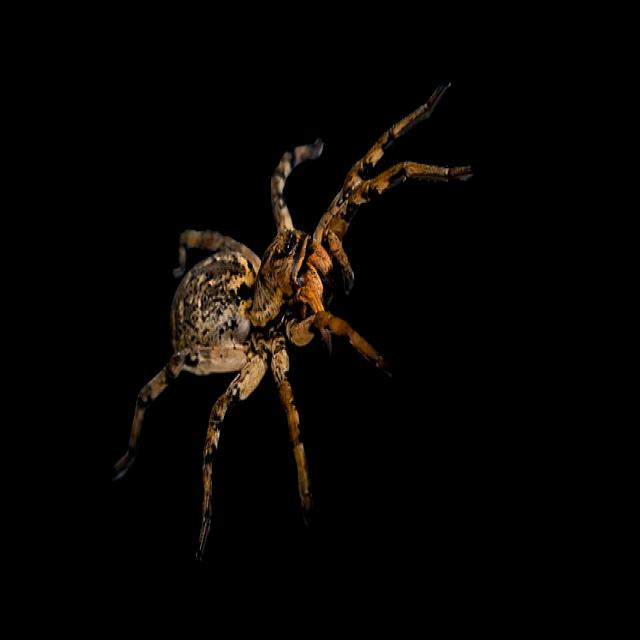spyder: (111, 81, 472, 568)
